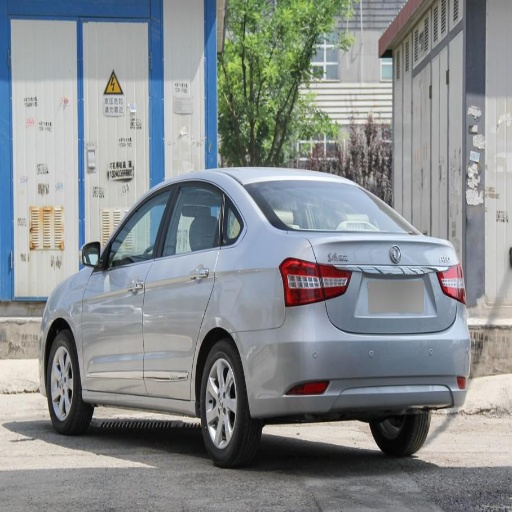back_bumper: (238, 302, 474, 421)
back_glass: (245, 179, 405, 228)
back_left_door: (143, 180, 228, 398)
tailgate: (306, 231, 456, 334)
